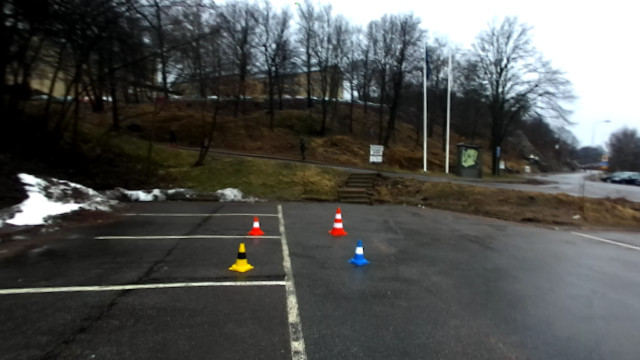blue: (348, 238, 370, 269)
orange: (246, 215, 264, 237)
orange2: (326, 205, 349, 235)
yellow: (227, 241, 254, 272)
